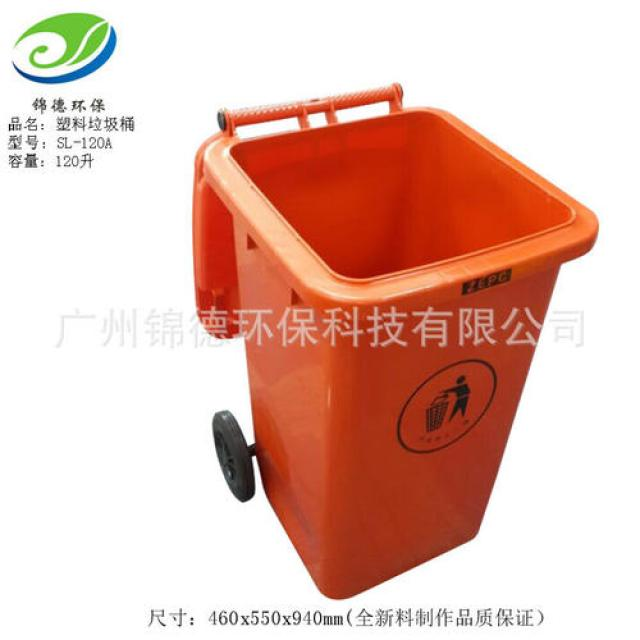garbage_bin: (189, 78, 596, 600)
